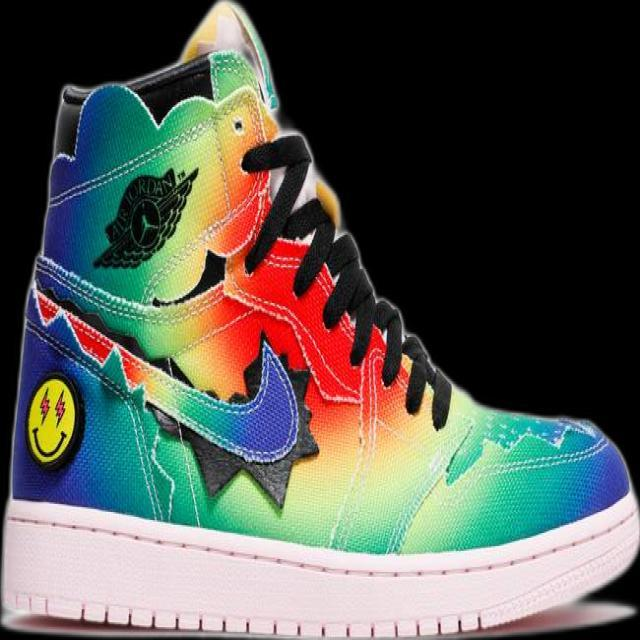J1_InsoleChar: (0, 0, 639, 639)
J1_ShoeLogo: (91, 164, 199, 270), (24, 370, 84, 470)
J1_StitchPattern: (33, 61, 455, 497), (20, 273, 616, 552), (0, 494, 638, 638), (28, 279, 321, 510), (232, 130, 454, 431), (4, 591, 487, 639), (323, 323, 388, 553), (440, 409, 610, 487), (398, 331, 454, 431)
